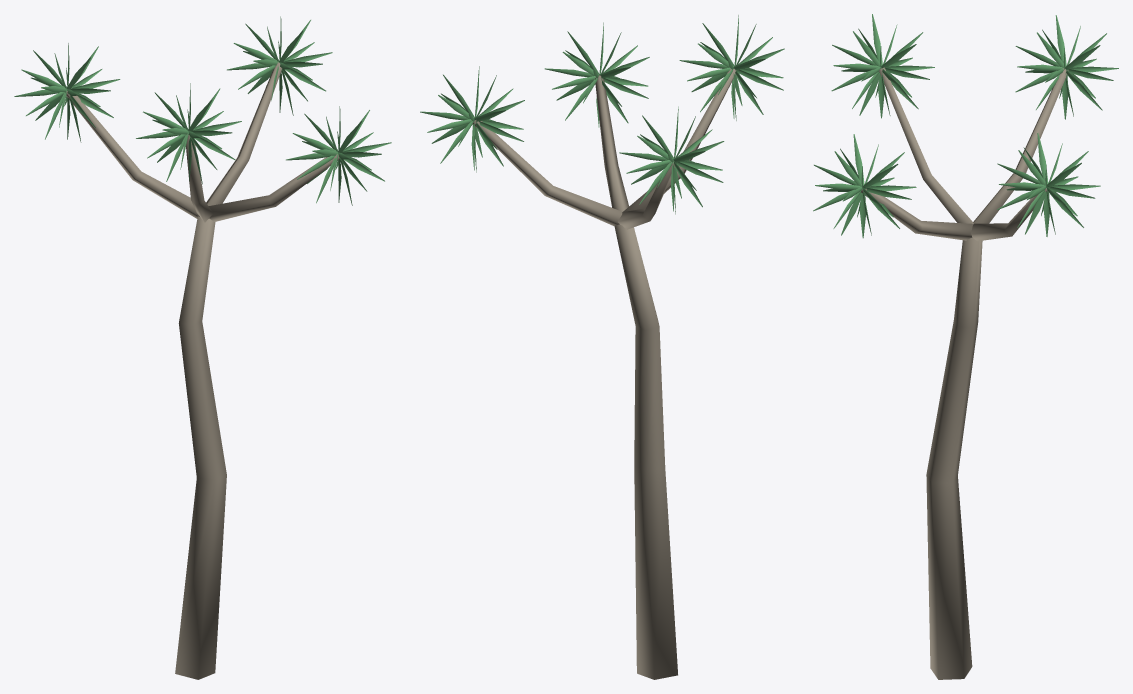
File: succulent_joshua_tree.glb
The picture shows the model from 3 angles, left to right: view 1: azimuth 30°, elevation 25°; view 2: azimuth 150°, elevation 25°; view 3: azimuth 270°, elevation 25°; orthographic projection. The views are drawn at different scales.
Visible parts, largest first — view 1: Flora_Joshua_Tree; view 2: Flora_Joshua_Tree; view 3: Flora_Joshua_Tree.
Boxes of the visible parts, x1,y1,x2,y2 form: Flora_Joshua_Tree: [14, 16, 391, 679]; Flora_Joshua_Tree: [420, 15, 784, 679]; Flora_Joshua_Tree: [813, 14, 1118, 679].
Bounding box in the file's own units: 1.87 × 3.78 × 1.66.
